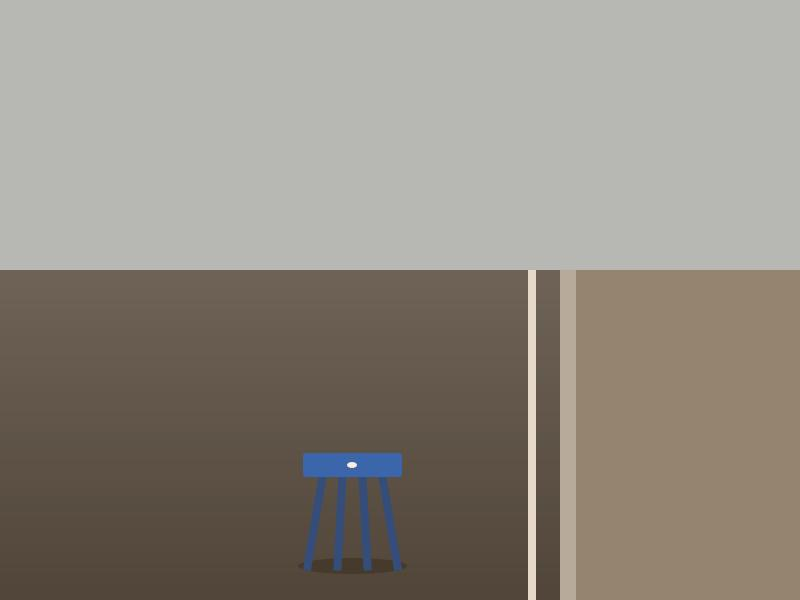ROAD_OBSTACLE: (303, 453, 402, 566)
